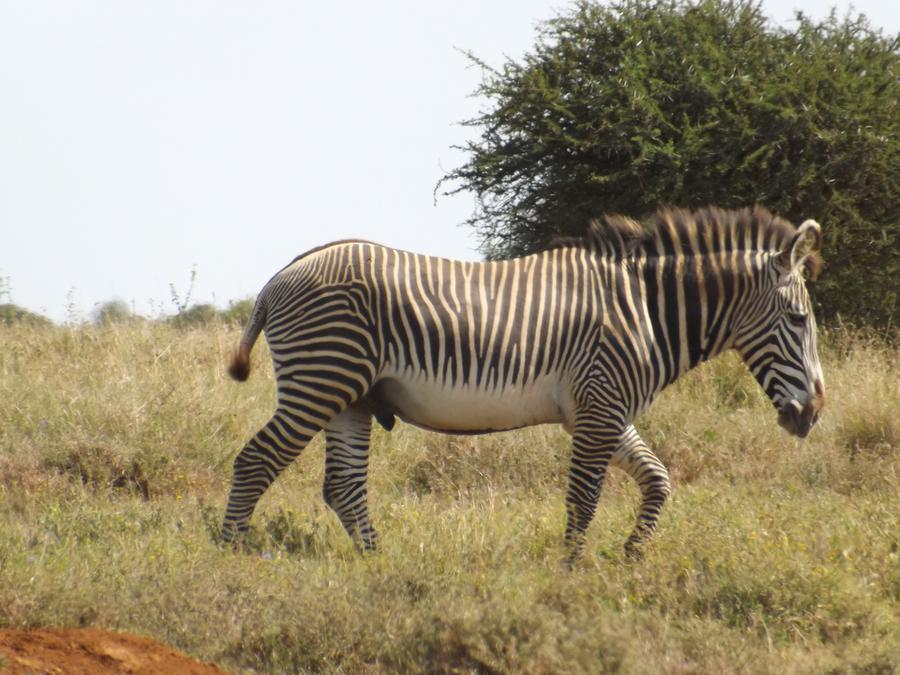zebra_grevys: (246, 218, 647, 422)
